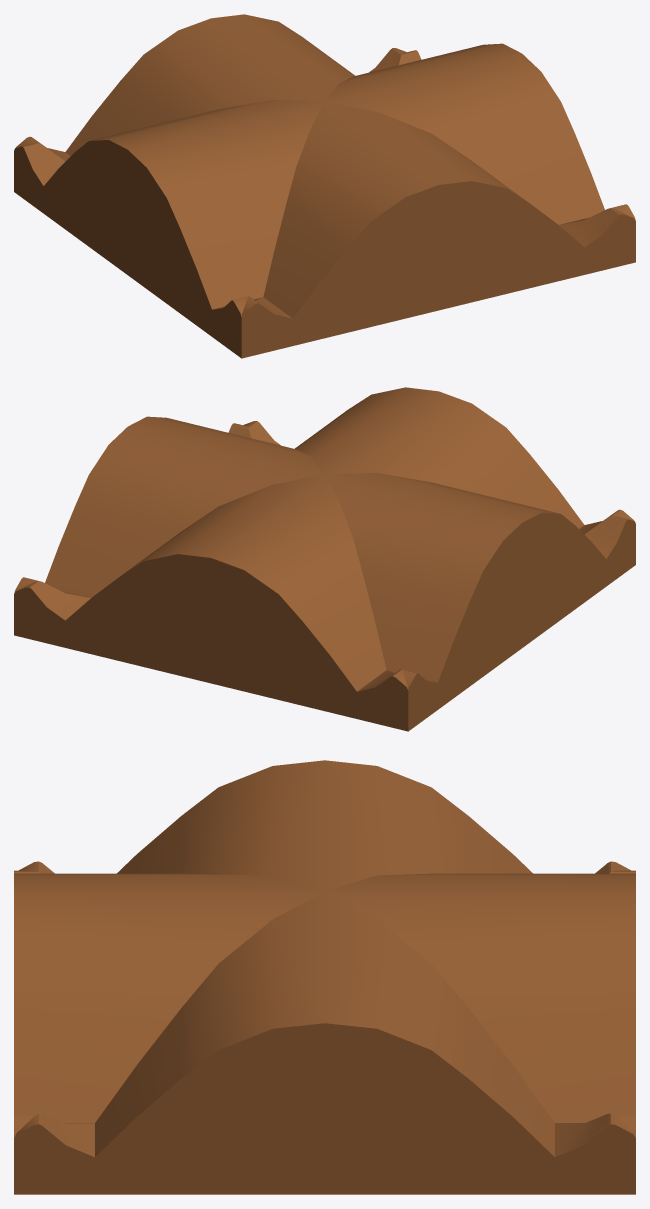
File: 013_wall_deco_4_joins.glb
The picture shows the model from 3 angles, top to bottom: view 1: azimuth 30°, elevation 25°; view 2: azimuth 150°, elevation 25°; view 3: azimuth 270°, elevation 25°; orthographic projection. The views are drawn at different scales.
Parts seen in each view (by area): view 1: Plane; view 2: Plane; view 3: Plane.
Part boxes in pixels (x1,y1,x2,y2): Plane: (14, 14, 635, 358); Plane: (14, 387, 635, 731); Plane: (14, 760, 635, 1194).
Size of the model in its own units: 0.75 by 0.2282 by 0.75.
